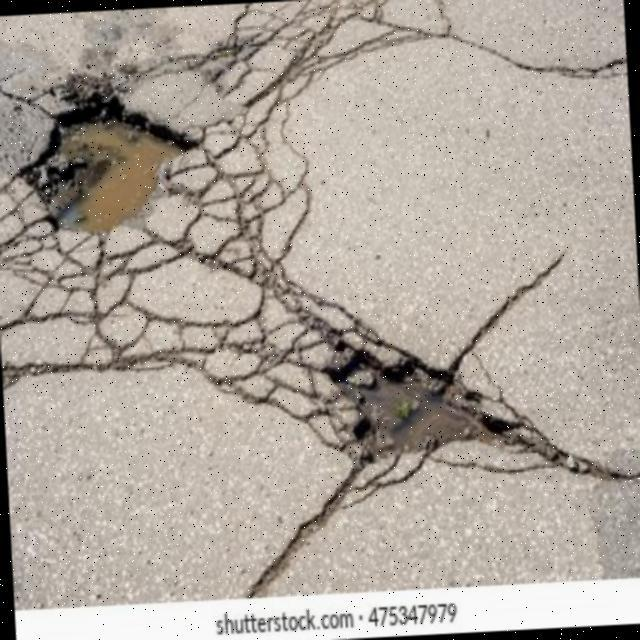Pothole: (321, 350, 622, 482), (16, 92, 196, 236)
